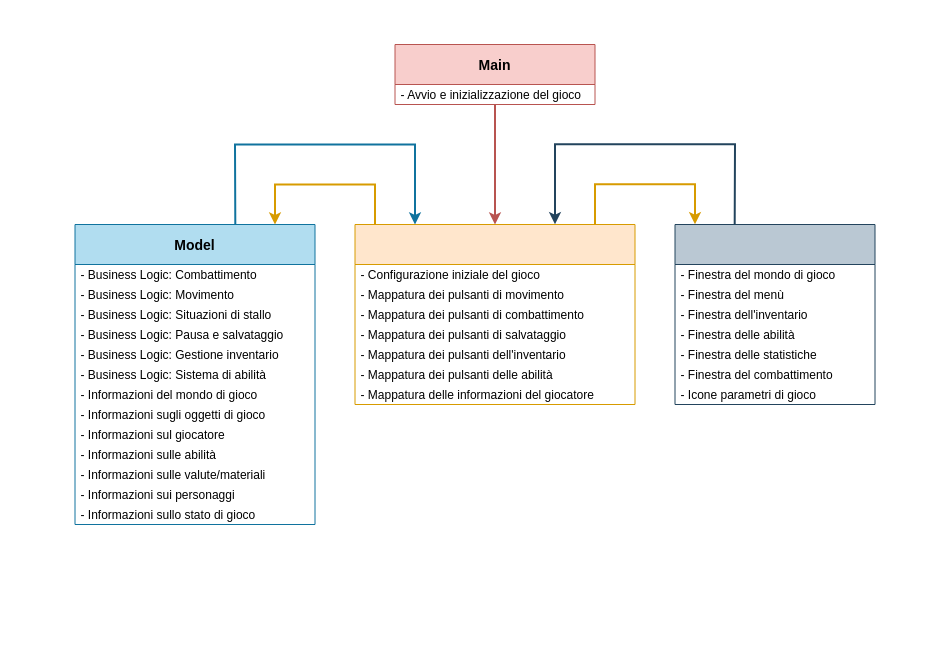
The diagram is 950 pixels wide and 654 high, and some of its shapes have lost their labels. The box of each missing label's shape, as (x1, y1, x2, y2) in pixels:
Controller: (354, 224, 635, 404)
View: (674, 224, 875, 404)
